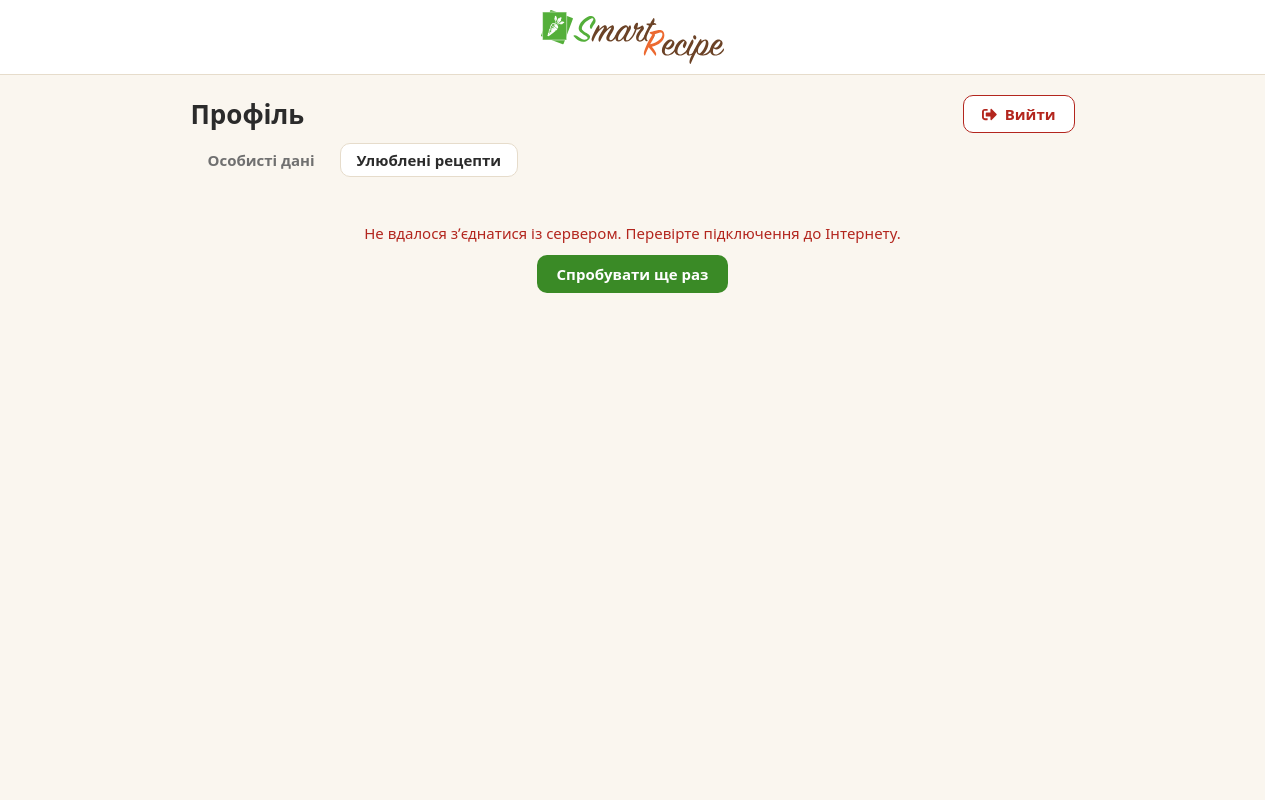
Test: Non-functional: online operation › KAN-42: recovers after network failure
Expected: the message shows "Не вдалося зʼєднатися із сервером. Перевірте підключення до Інтернету.", [364,223,901,243]
Expected: the heading "Профіль" is shown, [190,96,304,132]
Click the button "Спробувати ще раз" at (632, 274), box [536,255,728,293]
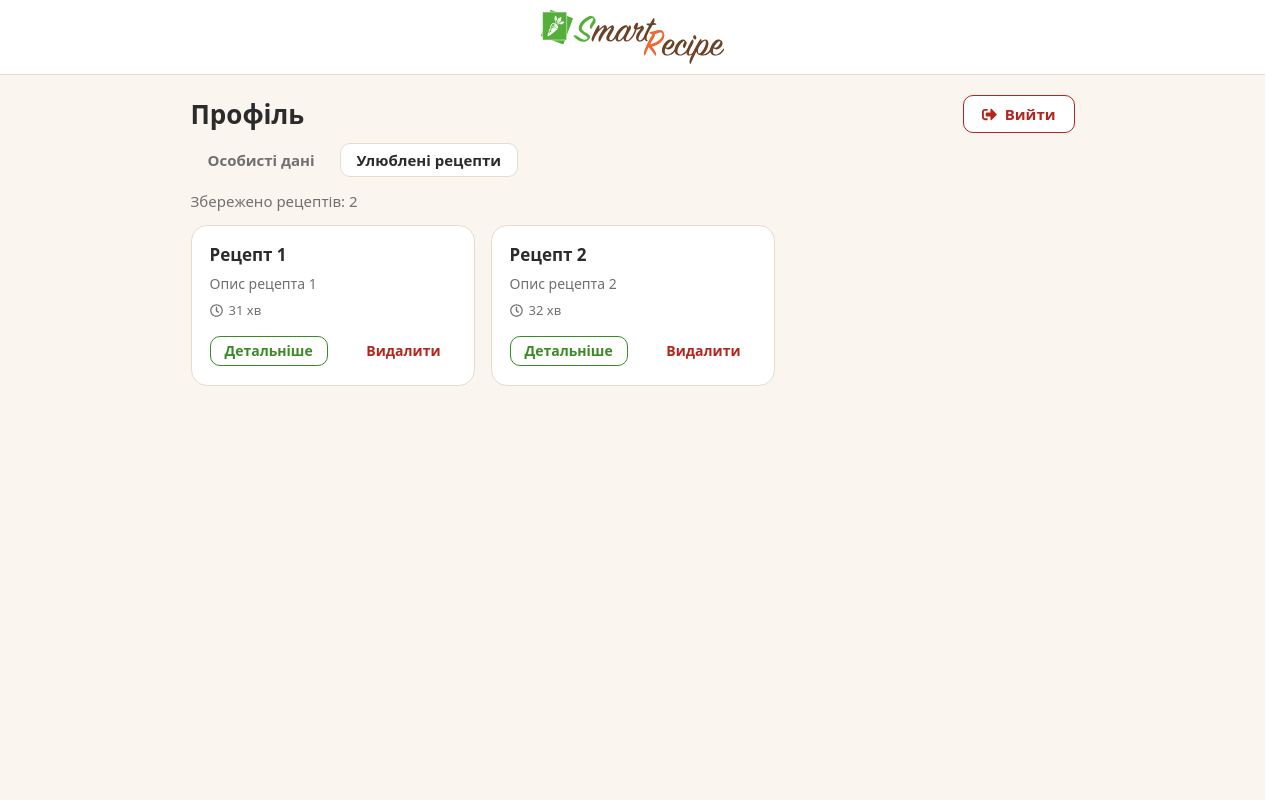
Now the text "Збережено рецептів: 2" is shown, box [190,191,358,211]
